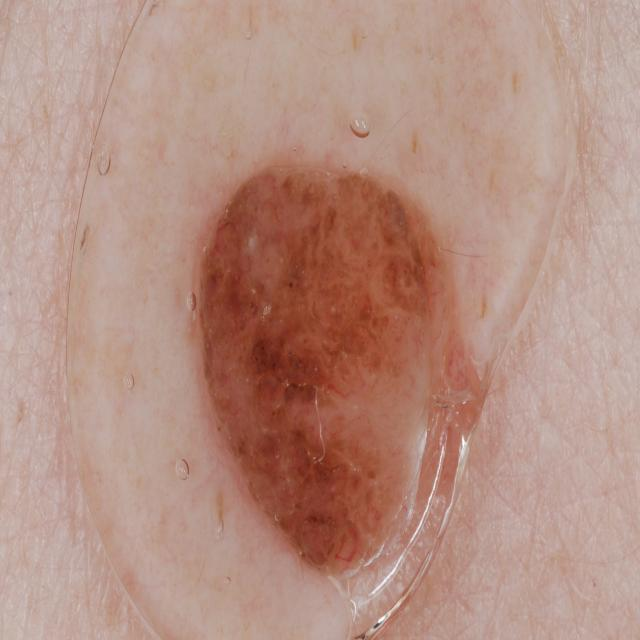Melanoma: (172, 147, 531, 592)
